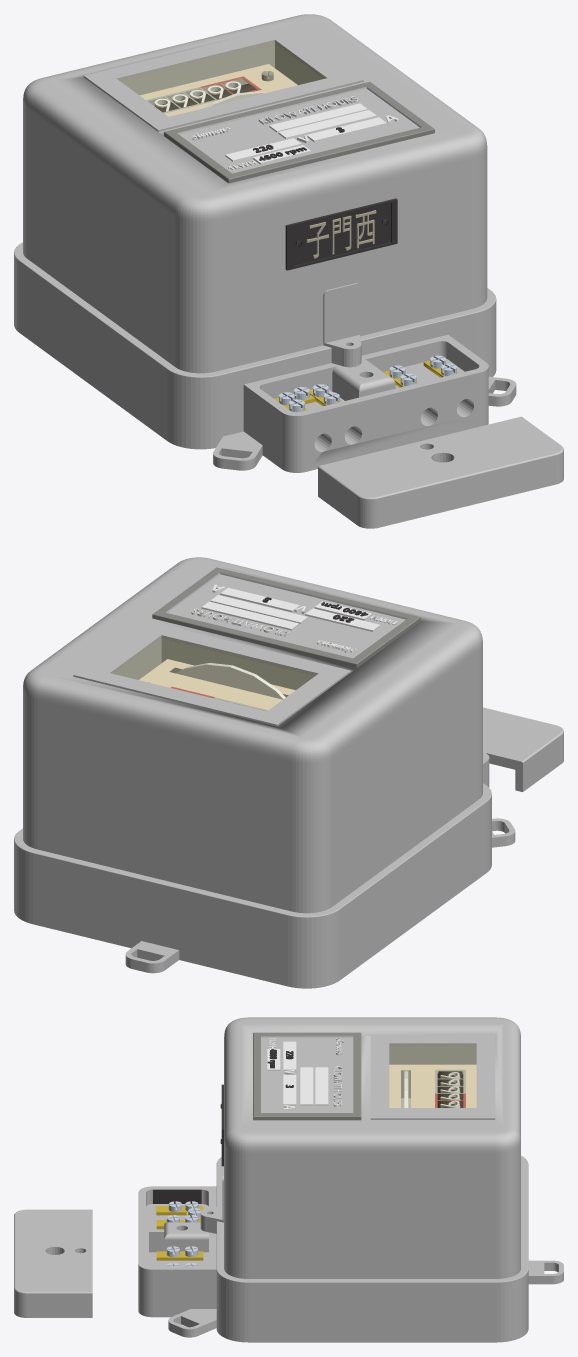
3 views of the same model, one above another, from view 1: azimuth 30°, elevation 25°; view 2: azimuth 150°, elevation 25°; view 3: azimuth 270°, elevation 25° (orthographic). The views are drawn at different scales.
Parts seen in each view (by area): view 1: Group2, Group1, Model; view 2: Group2, Group1, Model, KILOWATT_H; view 3: Group2, Group1, Model.
Boxes of the visible parts, box(x1,y1,x2,y2) form: Group2: box(14, 14, 496, 472); Group1: box(121, 44, 516, 470); Model: box(318, 416, 563, 528); Group2: box(14, 557, 491, 988); Group1: box(115, 584, 515, 973); Model: box(483, 707, 563, 791); KILOWATT_H: box(191, 608, 290, 636); Group2: box(138, 1017, 528, 1342); Group1: box(156, 1041, 563, 1337); Model: box(14, 1209, 92, 1317).
Bounding box in the file's own units: 3.75 × 2.73 × 6.61.
